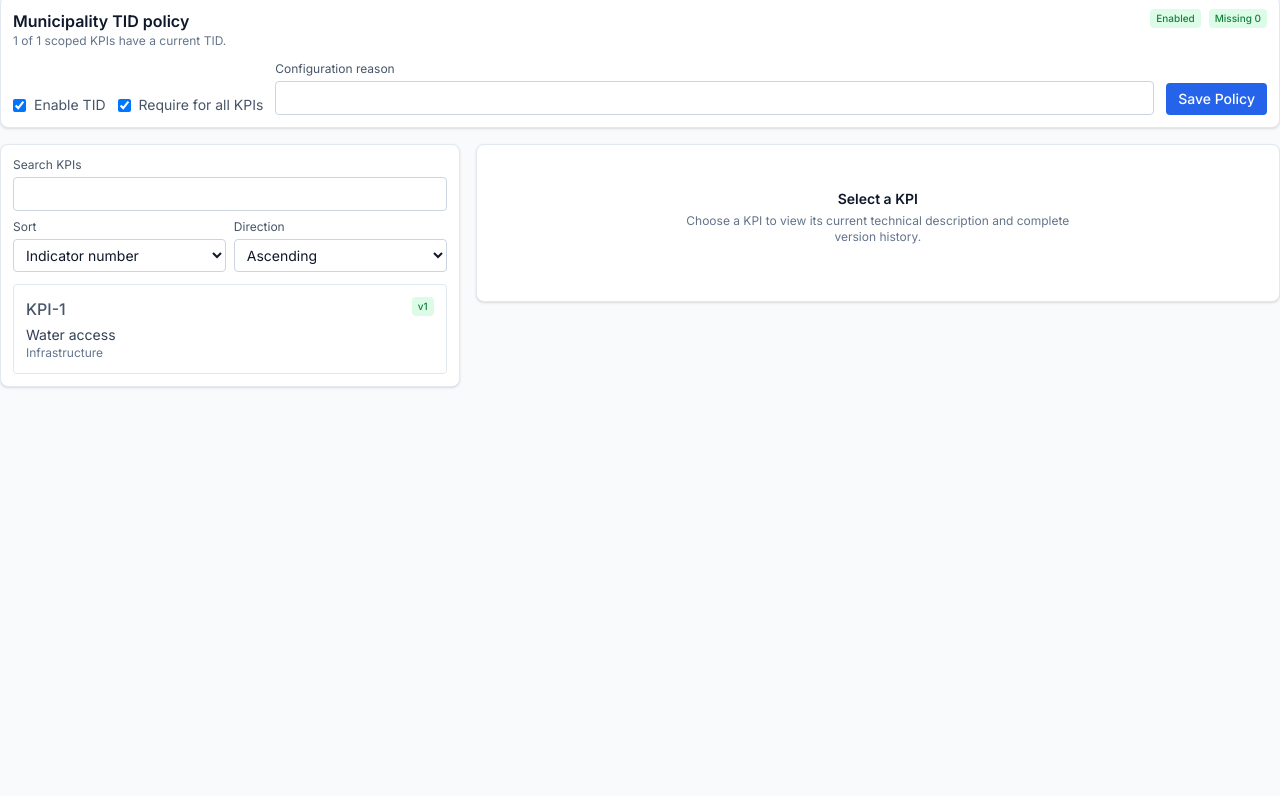
Test: TID workspace › searches and pages immutable TID history with authoritative totals
The width and height of the screenshot is (1280, 796).
Later steps or results of the test are not shown.
What coordinates should you click on to do the following:
click the button "KPI-1 v1 Water access Infrastructure"
I would click on:
 (46, 309)
Its box is [13, 284, 447, 374].
(page scrolled)
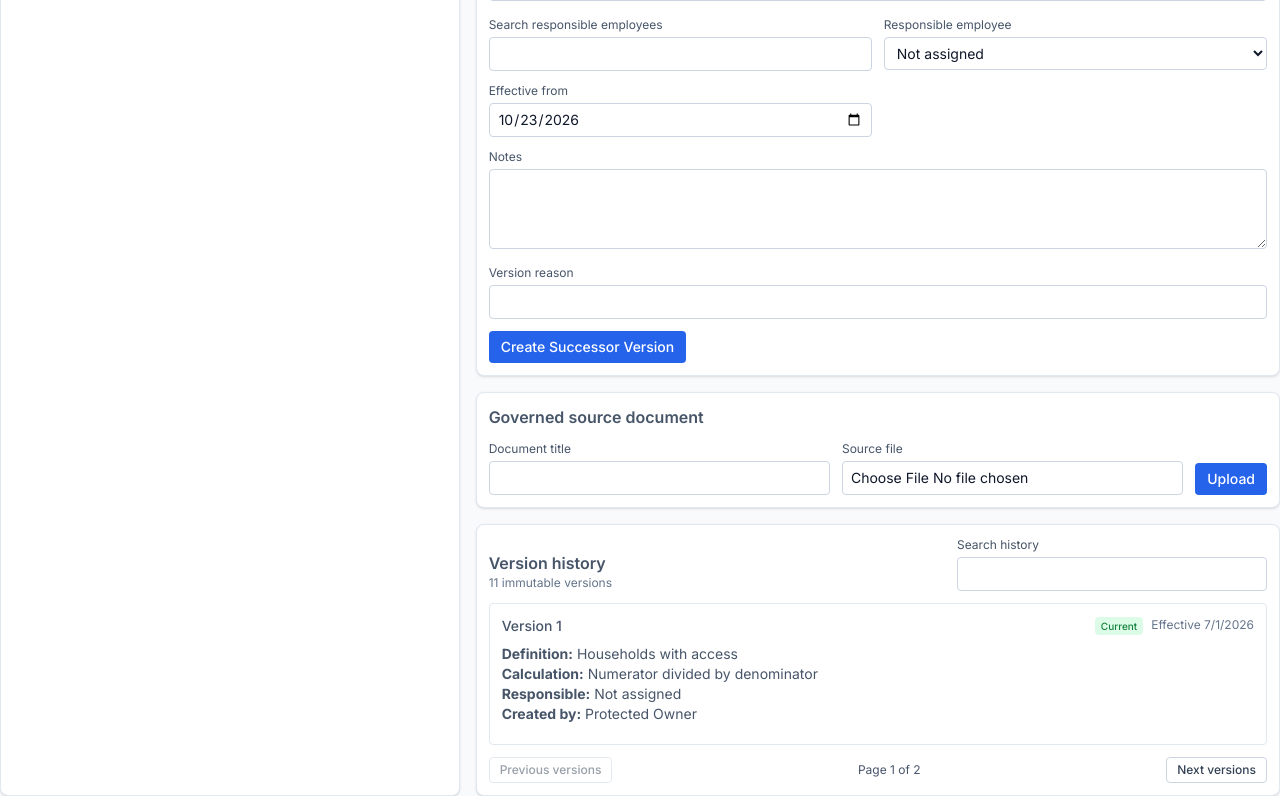
Now the text "11 immutable versions" is shown, box [489, 575, 612, 591]
